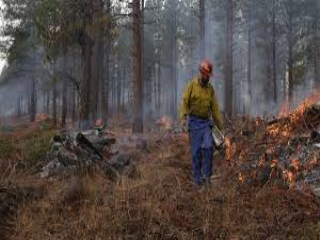fire: (243, 87, 319, 192)
